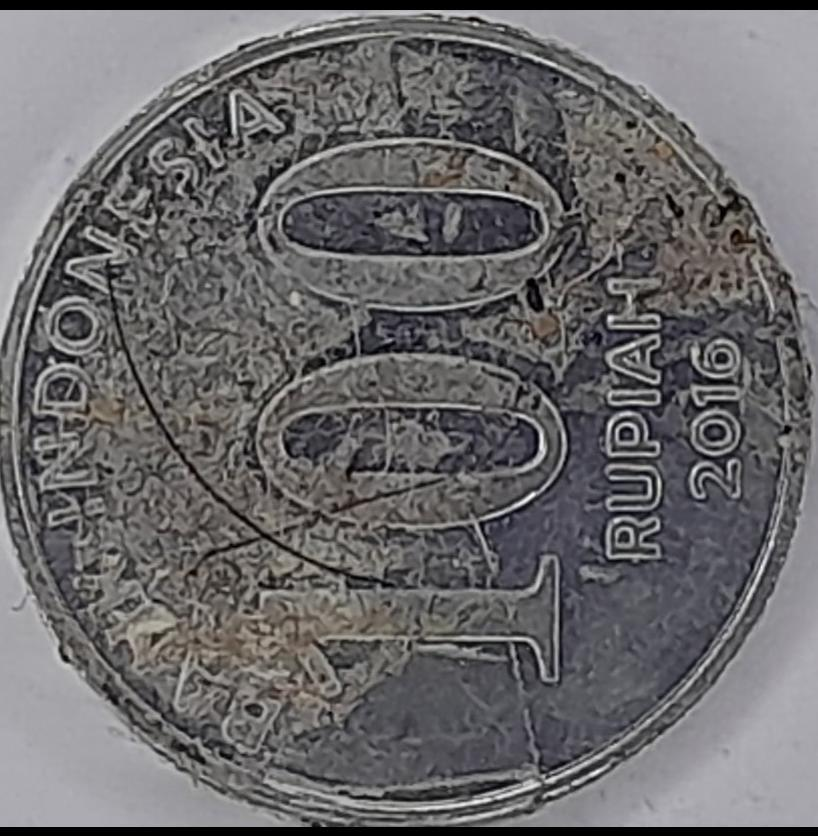coin_100_e2016: (0, 8, 817, 826)
